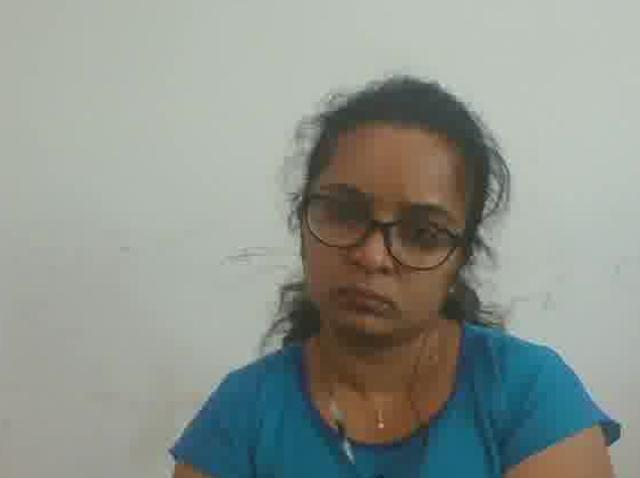bosan: (296, 138, 457, 352)
